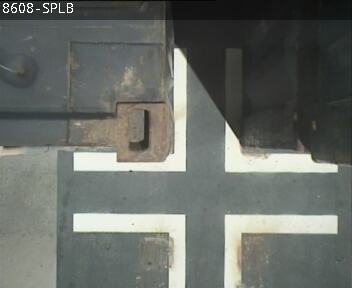groundmarker_1: (73, 48, 337, 171), (73, 212, 338, 287)
